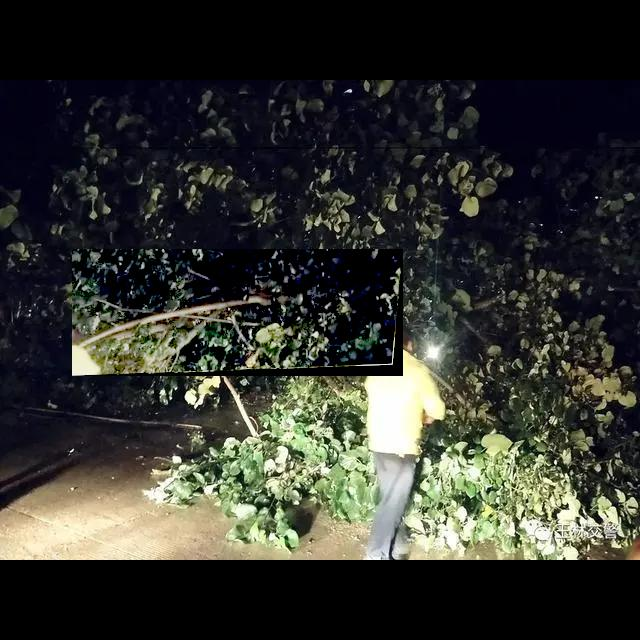Fallen Tree: (72, 249, 404, 377)
